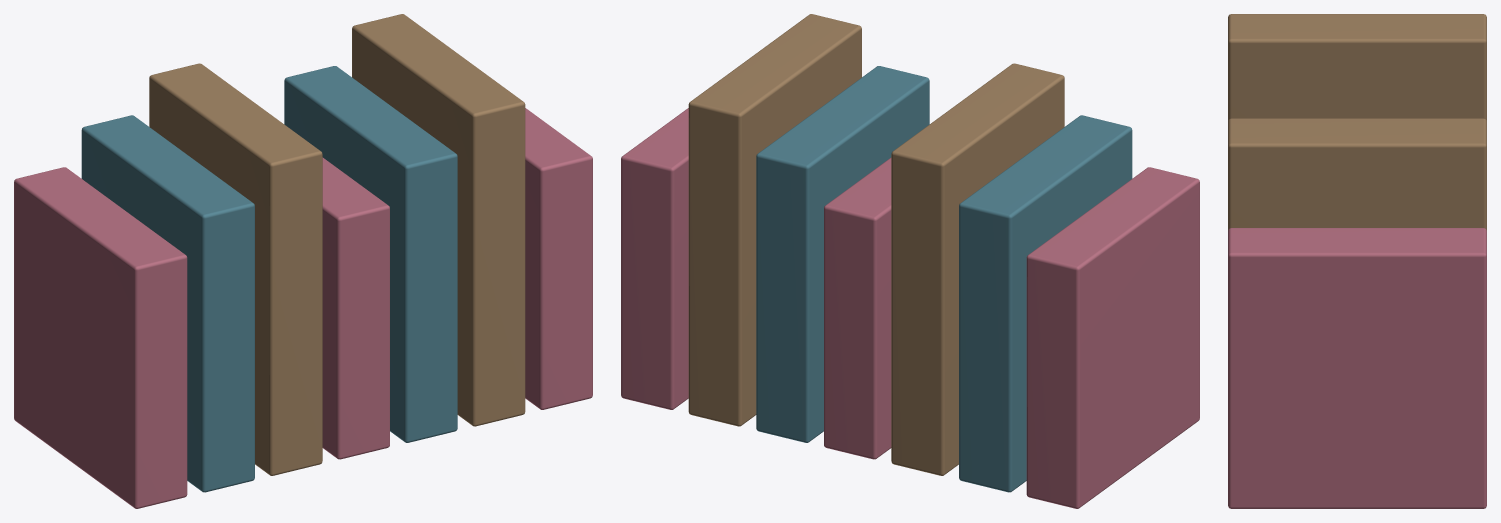
Rendered from BookSet.fbx.
3 views of the same model, side by side, from view 1: azimuth 30°, elevation 25°; view 2: azimuth 150°, elevation 25°; view 3: azimuth 270°, elevation 25° (orthographic). The views are drawn at different scales.
Visible parts, largest first — view 1: Book cover, Book cover.005, Book cover.002, Book cover.001, Book cover.004, Book cover.003, Book cover.006; view 2: Book cover, Book cover.005, Book cover.002, Book cover.001, Book cover.004, Book cover.003, Book cover.006; view 3: Book cover.006, Book cover.005, Book cover.002.
Boxes of the visible parts, left/top/right/bottom form: Book cover: left=14, top=167, right=187, bottom=508; Book cover.005: left=352, top=14, right=525, bottom=426; Book cover.002: left=149, top=63, right=322, bottom=475; Book cover.001: left=81, top=115, right=254, bottom=492; Book cover.004: left=284, top=66, right=457, bottom=442; Book cover.003: left=322, top=157, right=389, bottom=459; Book cover.006: left=525, top=108, right=592, bottom=409; Book cover: left=1026, top=167, right=1199, bottom=508; Book cover.005: left=688, top=14, right=861, bottom=426; Book cover.002: left=891, top=63, right=1064, bottom=475; Book cover.001: left=959, top=115, right=1132, bottom=492; Book cover.004: left=756, top=66, right=929, bottom=442; Book cover.003: left=824, top=157, right=891, bottom=459; Book cover.006: left=621, top=108, right=688, bottom=409; Book cover.006: left=1228, top=228, right=1486, bottom=508; Book cover.005: left=1228, top=118, right=1486, bottom=230; Book cover.002: left=1228, top=14, right=1486, bottom=120.
Size of the model in its own units: 47.5 by 31 by 22.
